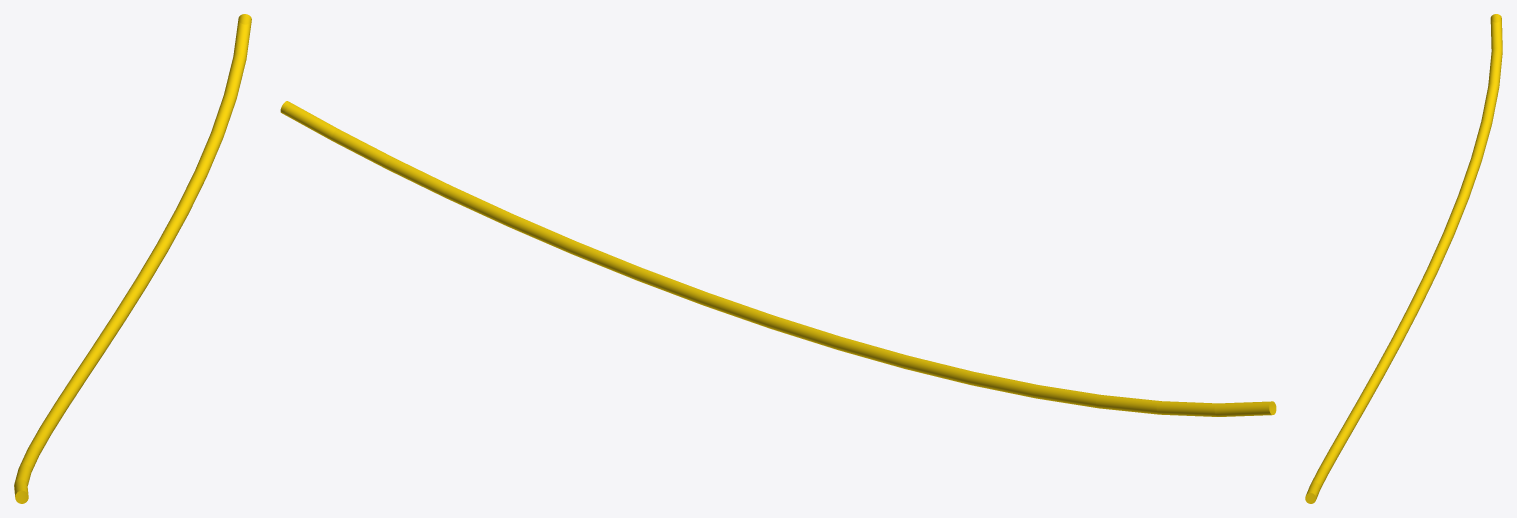
File: Event_420107950_track_53.fbx
The picture shows the model from 3 angles, left to right: view 1: azimuth 90°, elevation 25°; view 2: azimuth 150°, elevation 25°; view 3: azimuth 270°, elevation 25°; orthographic projection. The views are drawn at different scales.
Visible parts, largest first — view 1: Model; view 2: Model; view 3: Model.
Part boxes in pixels (x1,y1,x2,y2): Model: (14, 14, 251, 503); Model: (280, 101, 1276, 416); Model: (1305, 14, 1502, 503).
Size of the model in its own units: 3.71 by 0.3285 by 0.7038.
